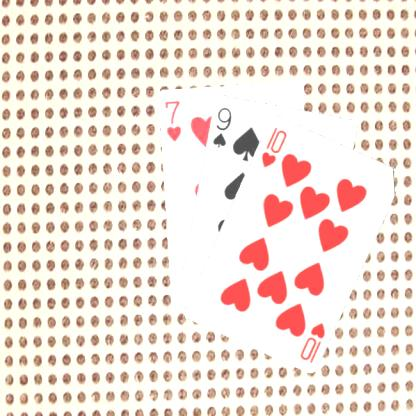10H: (258, 123, 289, 169), (296, 319, 326, 364)
7H: (161, 97, 182, 143)
9S: (209, 104, 233, 149)
